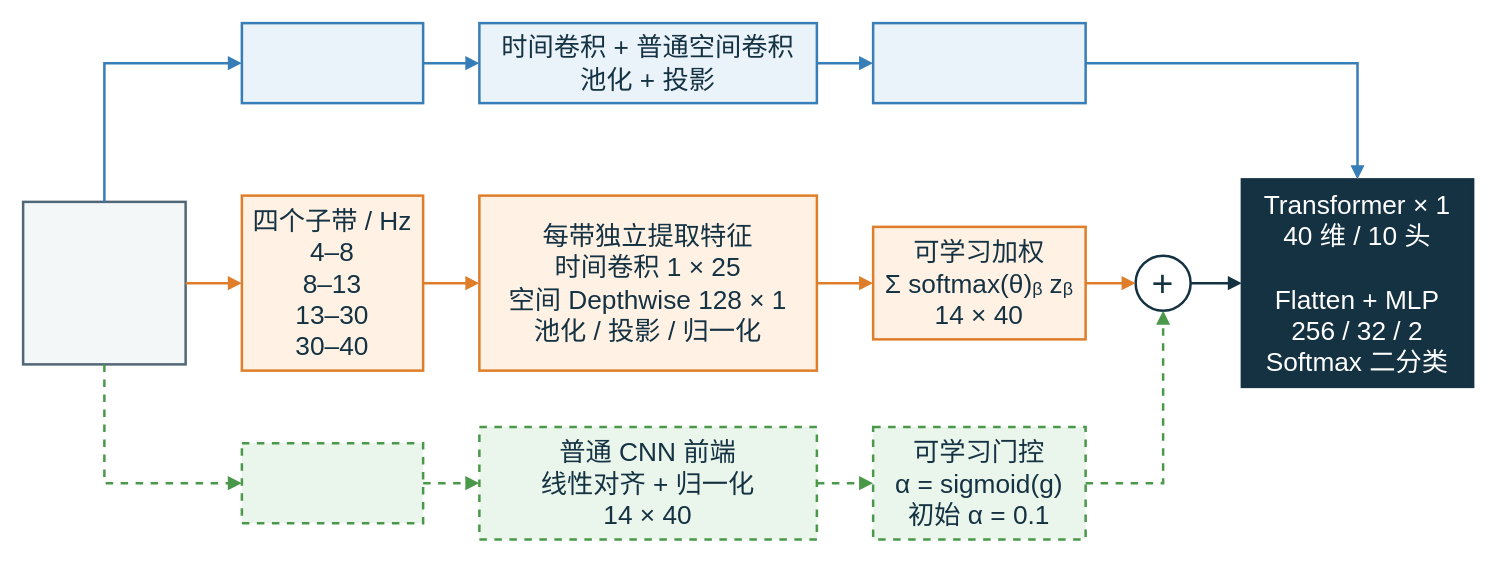
Image size: 1495x561. Some labels were removed from this diagram. The centre of each missing label's shape, as x and y in pixels:
"14 × 40 特征序列" belongs at (978,62).
"EEG 输入 128 × 300 100 Hz 3 秒" belongs at (103,282).
"宽带残差 4–40 Hz" belongs at (332,482).
"普通模型 4–40 Hz" belongs at (332,62).
